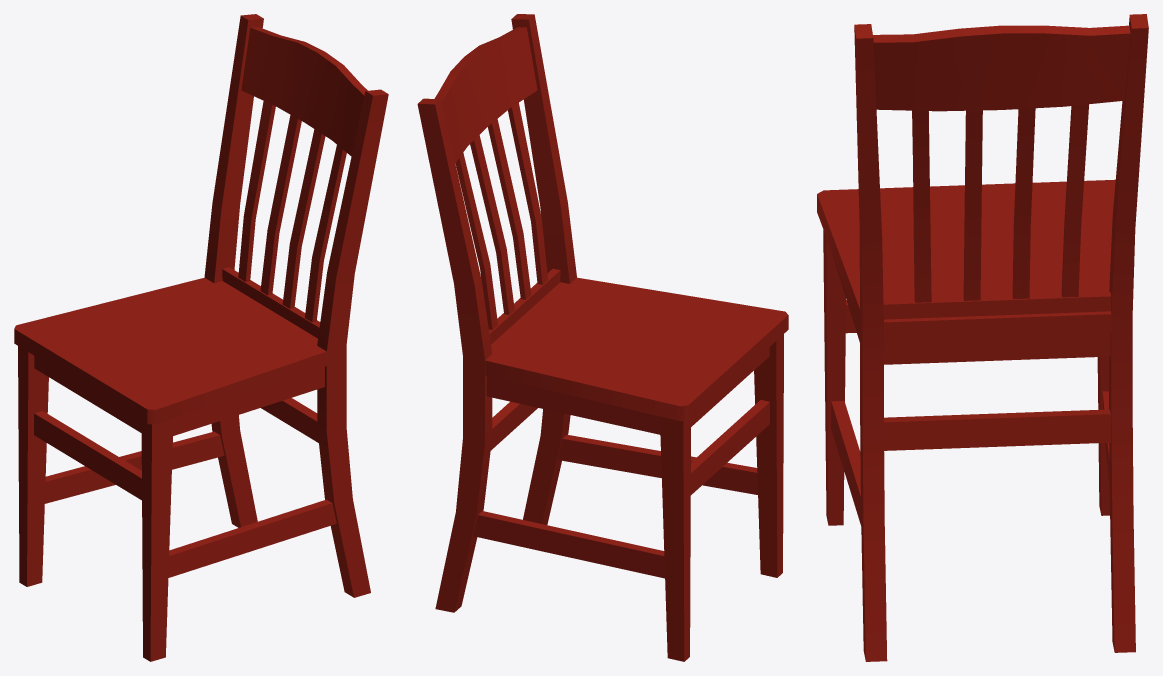
Rendered from silla.obj.
3 renders of one model, left to right at view 1: azimuth 30°, elevation 25°; view 2: azimuth 150°, elevation 25°; view 3: azimuth 270°, elevation 25°, orthographic. The views are drawn at different scales.
Visible parts, largest first — view 1: chair; view 2: chair; view 3: chair.
Boxes of the visible parts, <box> form: chair: <box>14,14,388,661</box>; chair: <box>417,14,788,661</box>; chair: <box>817,14,1148,661</box>.
Size of the model in its own units: 0.6362 by 1.12 by 0.5305.
